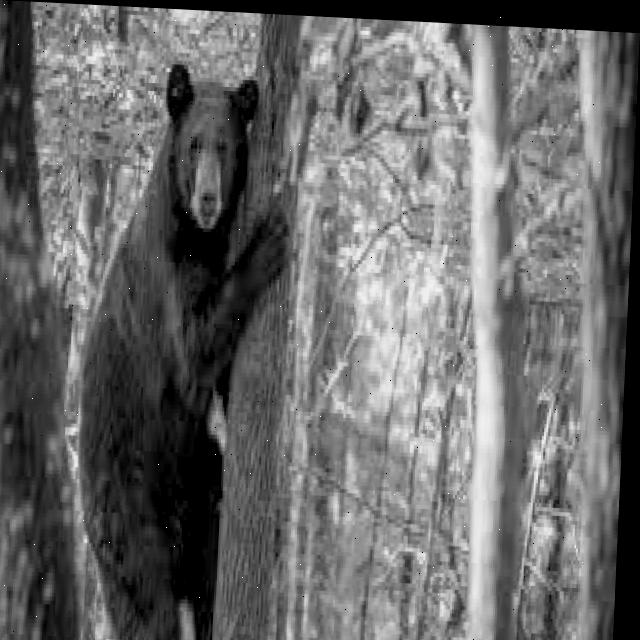Bear: (71, 56, 303, 640)
